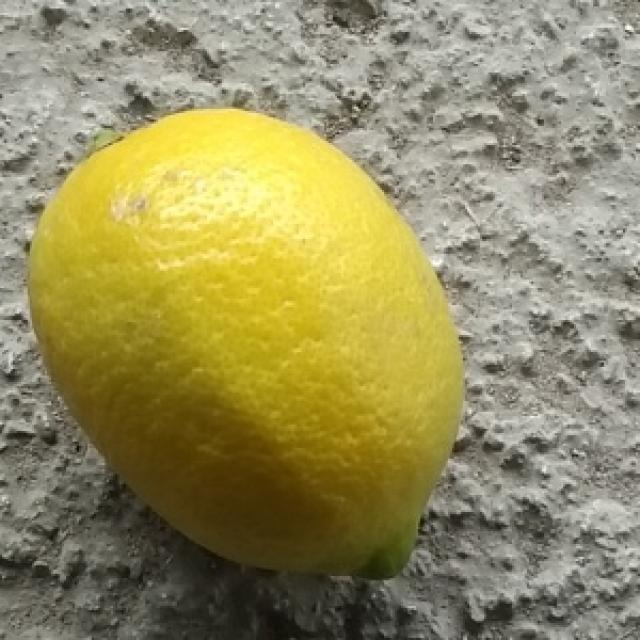Ripe: (18, 103, 469, 587)
